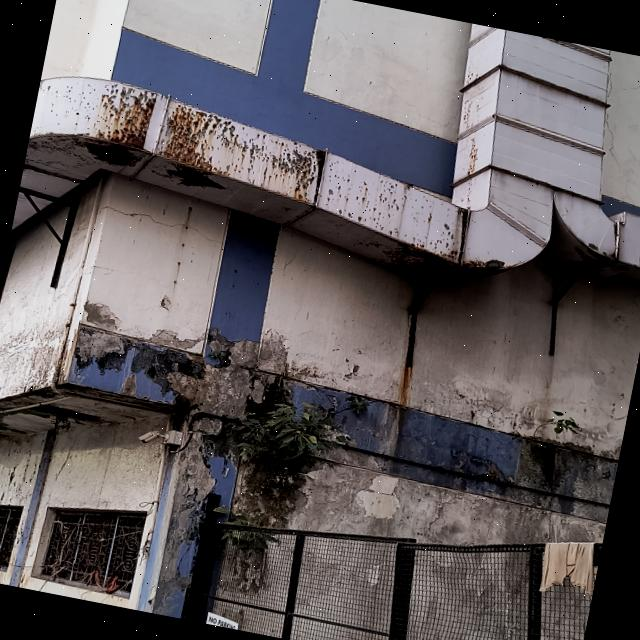stain_mould: (0, 171, 618, 618), (0, 212, 620, 618), (28, 77, 465, 272)
